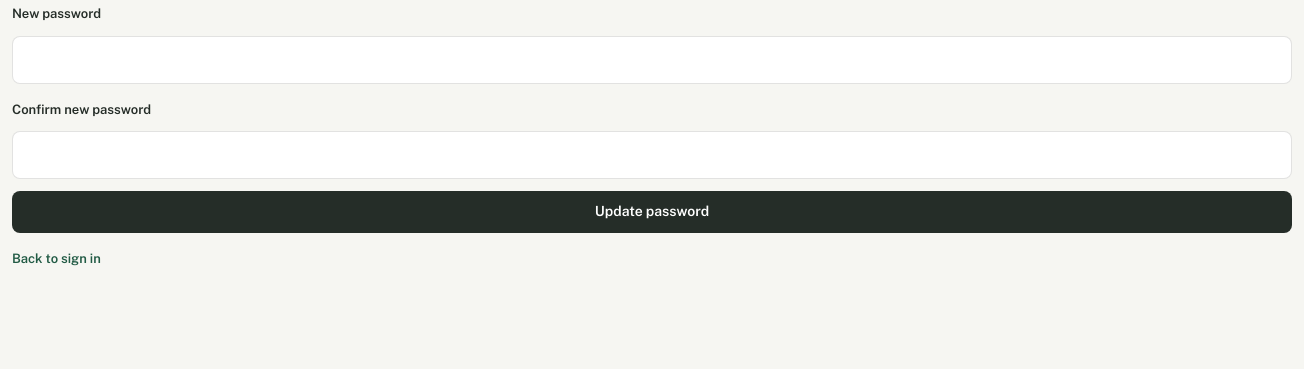
Test: ResetPasswordForm › updates the password and clears the recovery session
Type "new-password" into the password field labelled "New password" at (652, 60), box 12,36 -> 1292,84
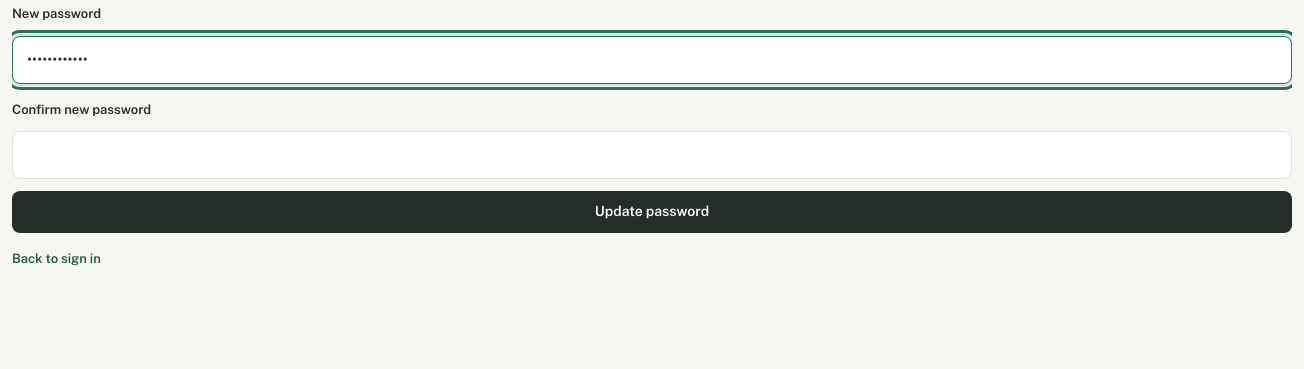
Type "new-password" into the password field labelled "Confirm new password" at (652, 155), box 12,131 -> 1292,179
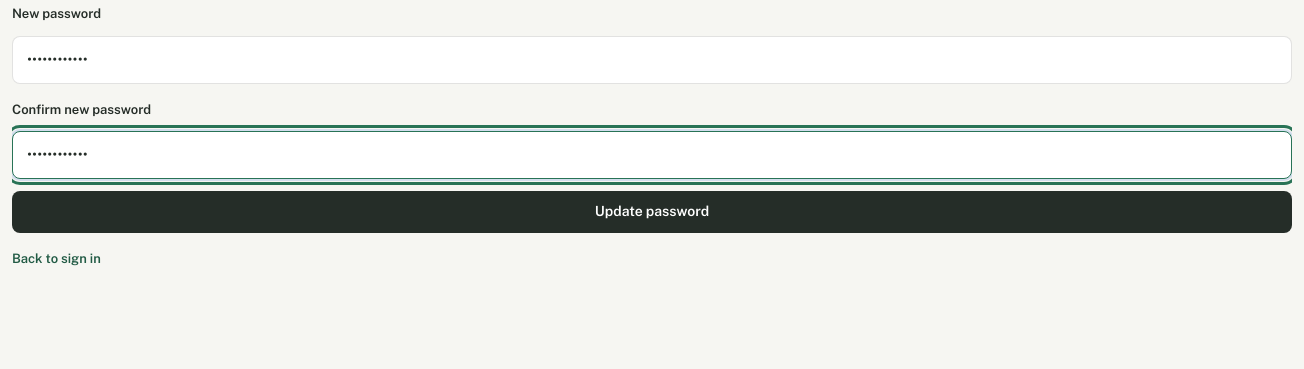
Click the button "Update password" at (652, 212), box 12,191 -> 1292,233
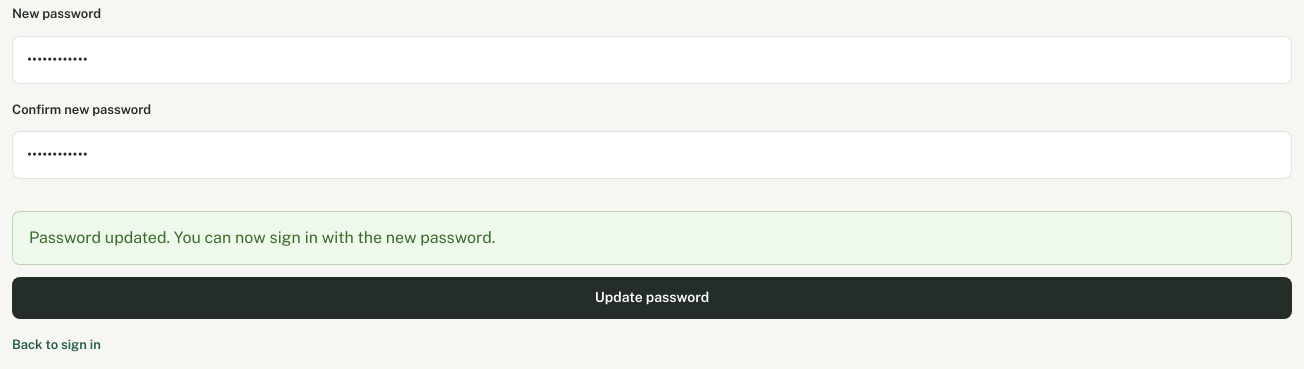
Expected: the message shows "Password updated.", 29,228 -> 495,247
